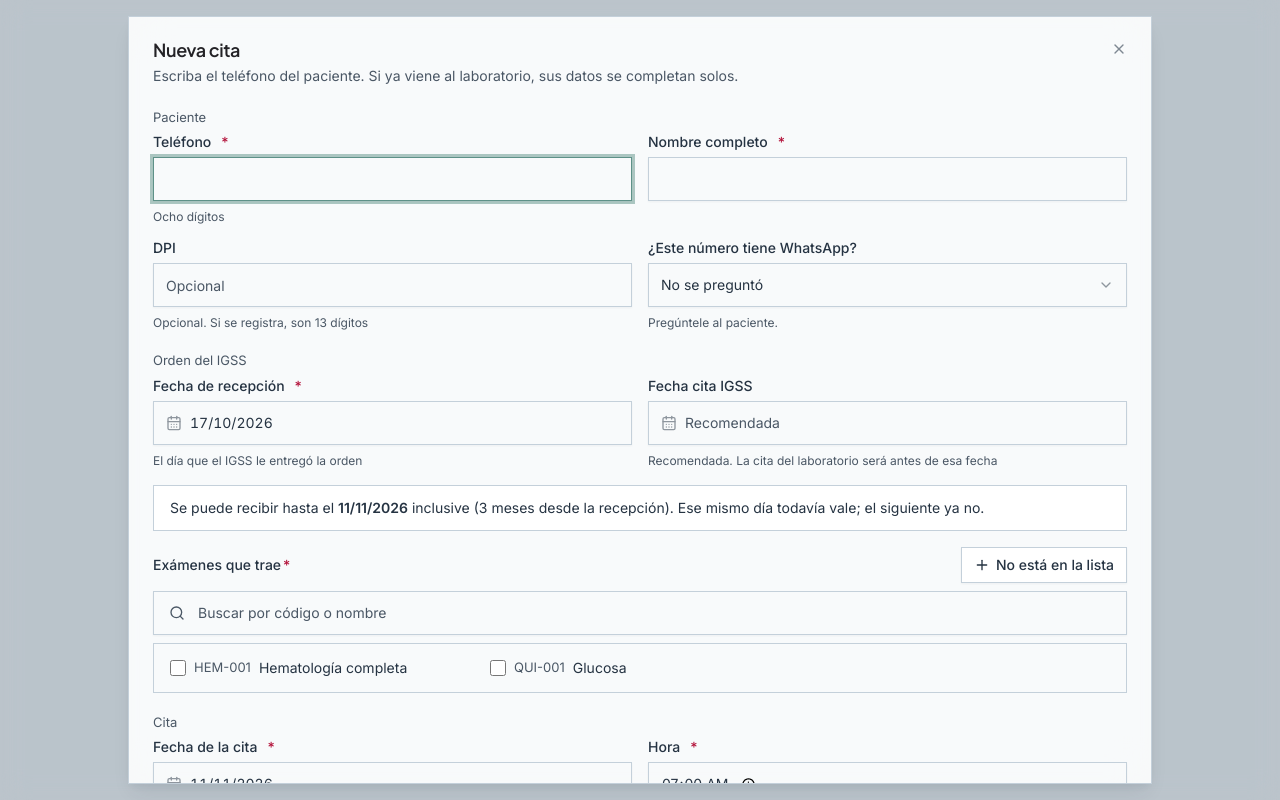
Test: Selección de exámenes › filtra la lista por código o por nombre
This screenshot has width=1280, height=800.
Expected: the checkbox labelled "QUI-001 Glucosa" is shown, [490,660,506,676]
In the search field named "Buscar examen": {"x": 640, "y": 613} [153,591,1127,635], type "hem"
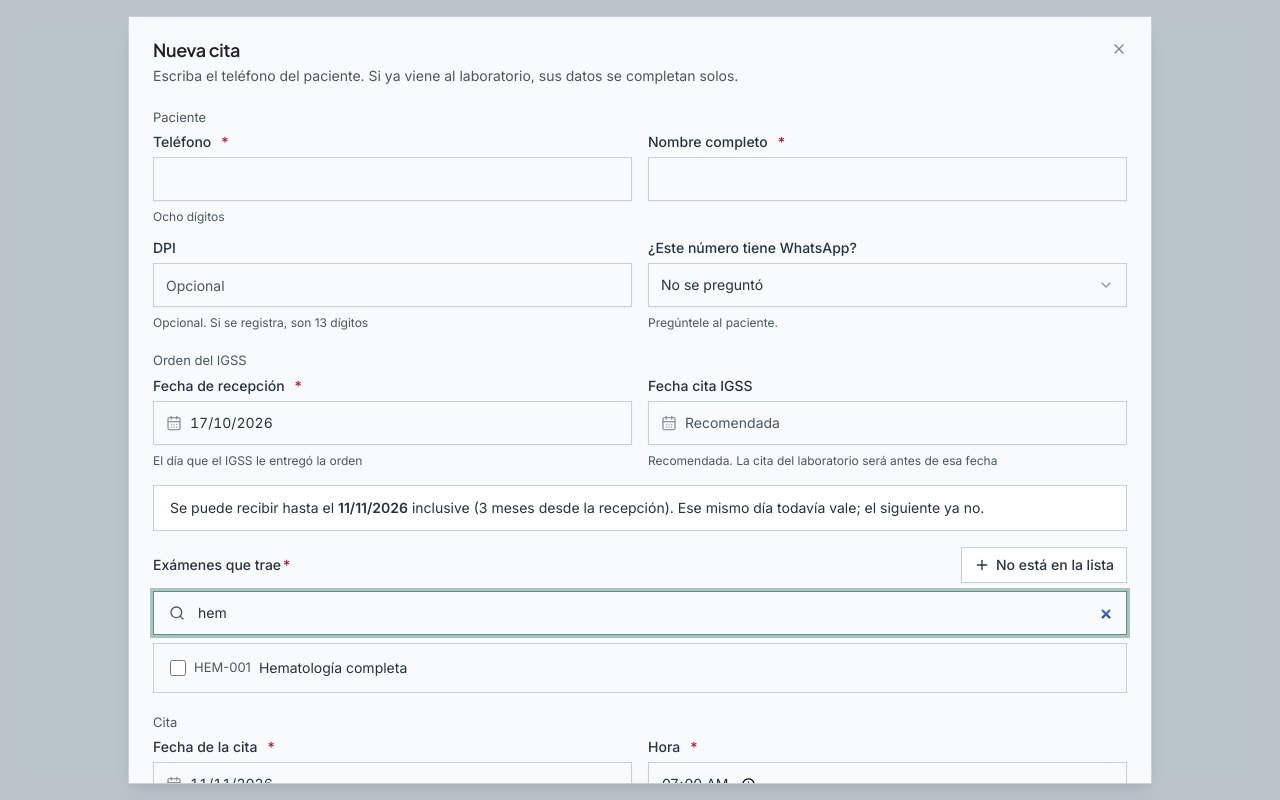
Expected: the checkbox labelled "HEM-001 Hematología completa" is shown, [170,660,186,676]
Now the label "Glucosa" is gone
Replace the text in the search field named "Buscar examen" with "GLUCOSA": {"x": 640, "y": 613} [153,591,1127,635]
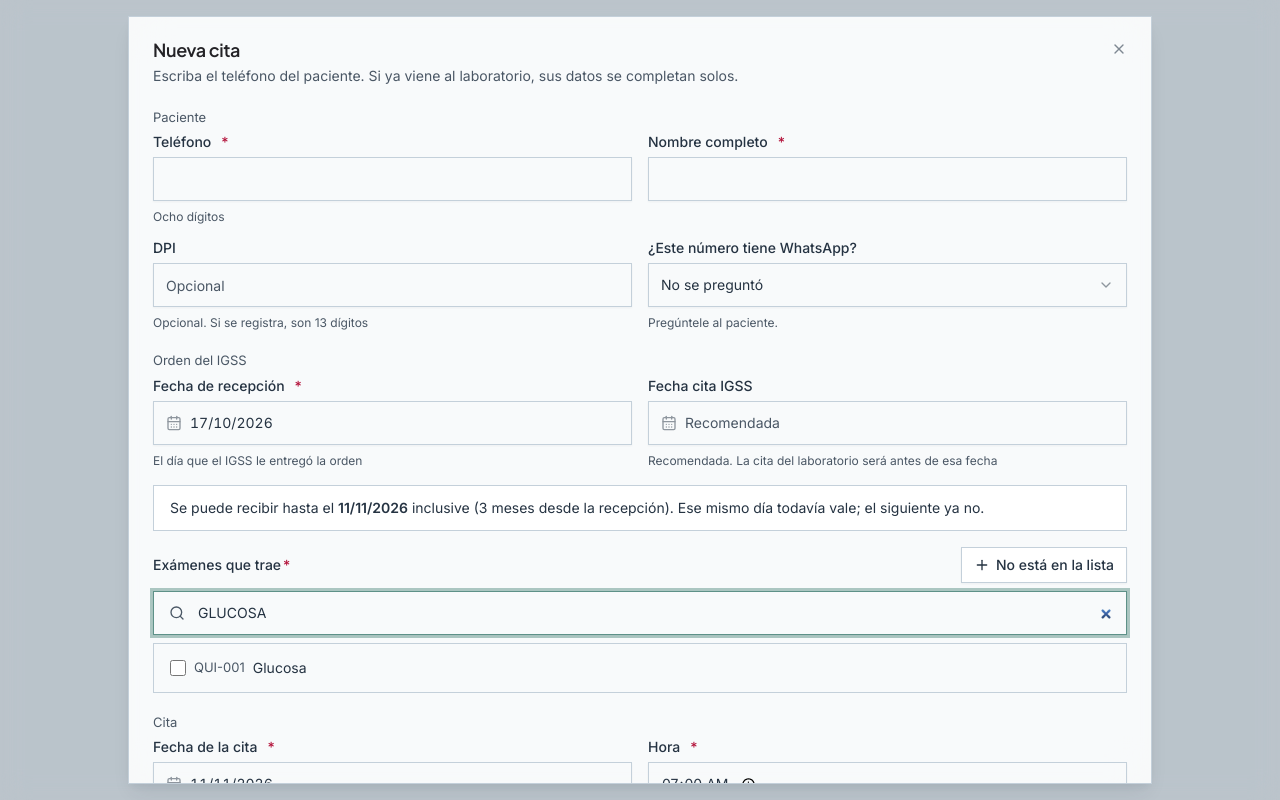
Expected: the checkbox labelled "QUI-001 Glucosa" is shown, [170,660,186,676]
Now the label "Hematología" is gone
Replace the text in the search field named "Buscar examen" with "orina": {"x": 640, "y": 613} [153,591,1127,635]
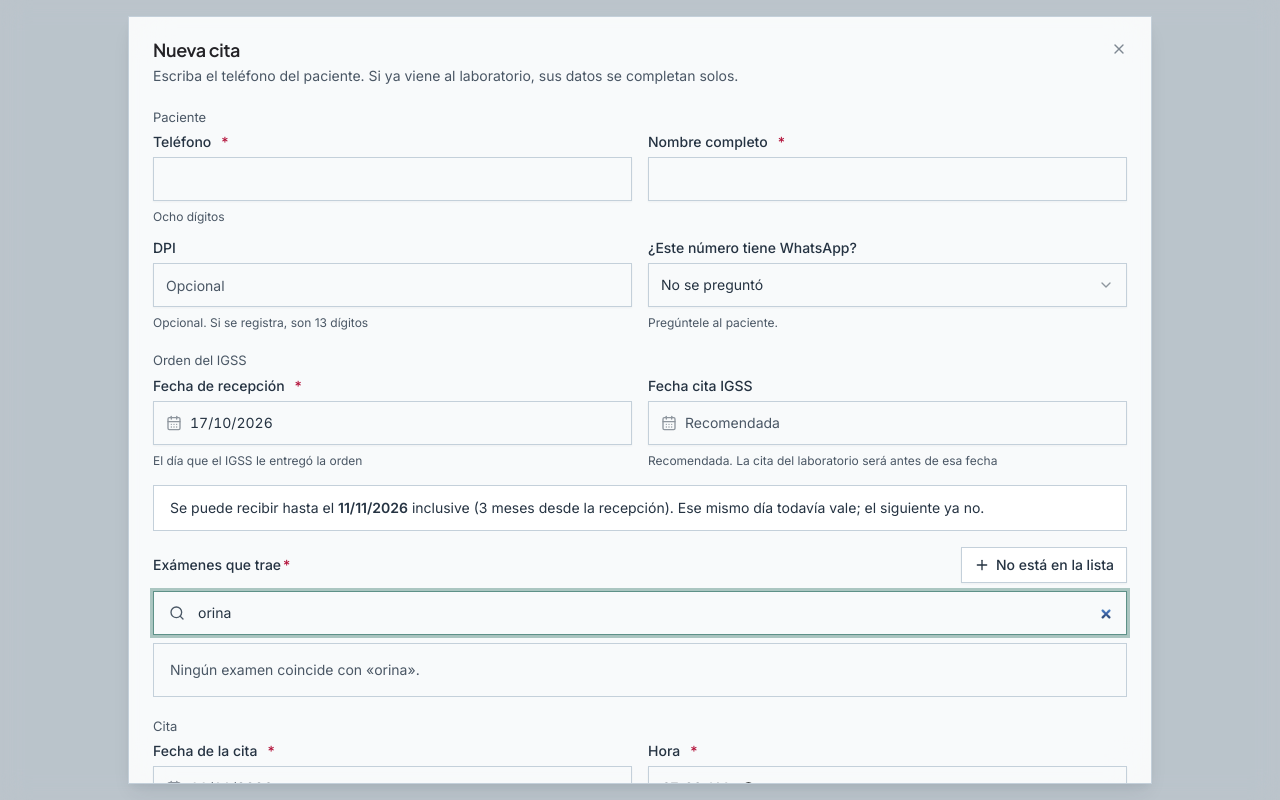
Now the text "Ningún examen coincide con «orina»." is shown, box [170,661,420,678]
